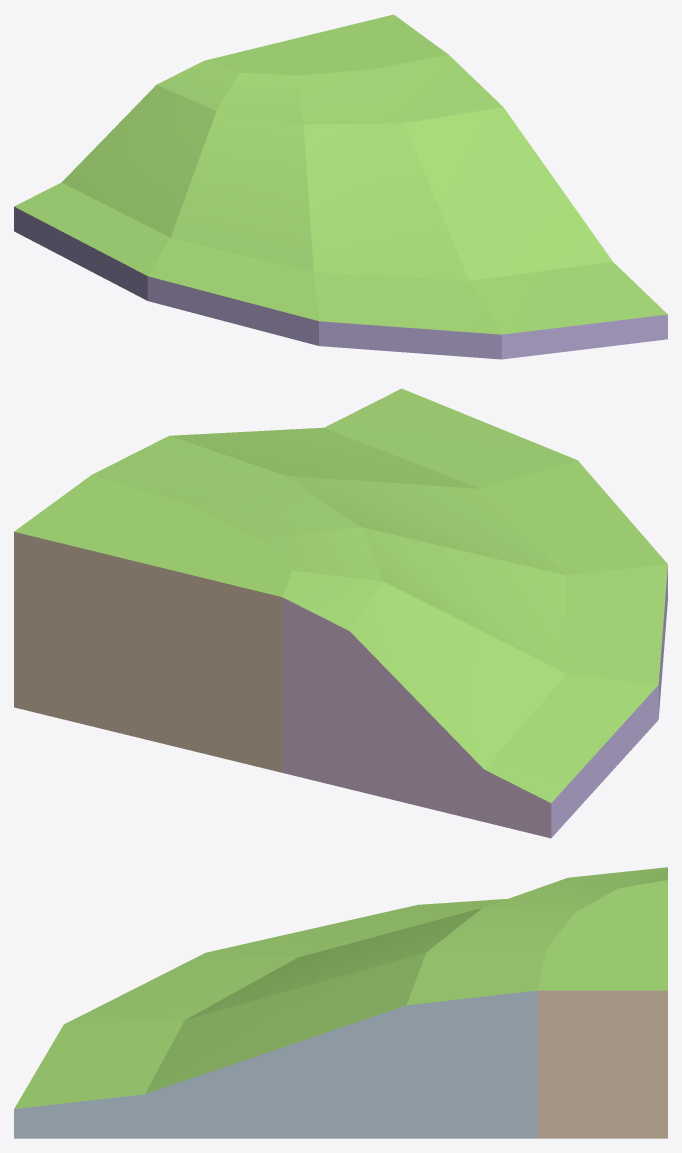
The model's file is Grass_Hill_Grade_Transition_Curve_Outer_4x5.fbx.
3 renders of one model, top to bottom at view 1: azimuth 30°, elevation 25°; view 2: azimuth 150°, elevation 25°; view 3: azimuth 270°, elevation 25°, orthographic. The views are drawn at different scales.
Visible parts, largest first — view 1: Grass_Hill_Grade_Transition_Curve_Outer_4x5; view 2: Grass_Hill_Grade_Transition_Curve_Outer_4x5; view 3: Grass_Hill_Grade_Transition_Curve_Outer_4x5.
Part boxes in pixels (box(x1,y1,x2,y2)): Grass_Hill_Grade_Transition_Curve_Outer_4x5: box(14, 14, 667, 359); Grass_Hill_Grade_Transition_Curve_Outer_4x5: box(14, 388, 667, 838); Grass_Hill_Grade_Transition_Curve_Outer_4x5: box(14, 867, 667, 1138).
Bounding box in the file's own units: 400 × 125 × 500.
